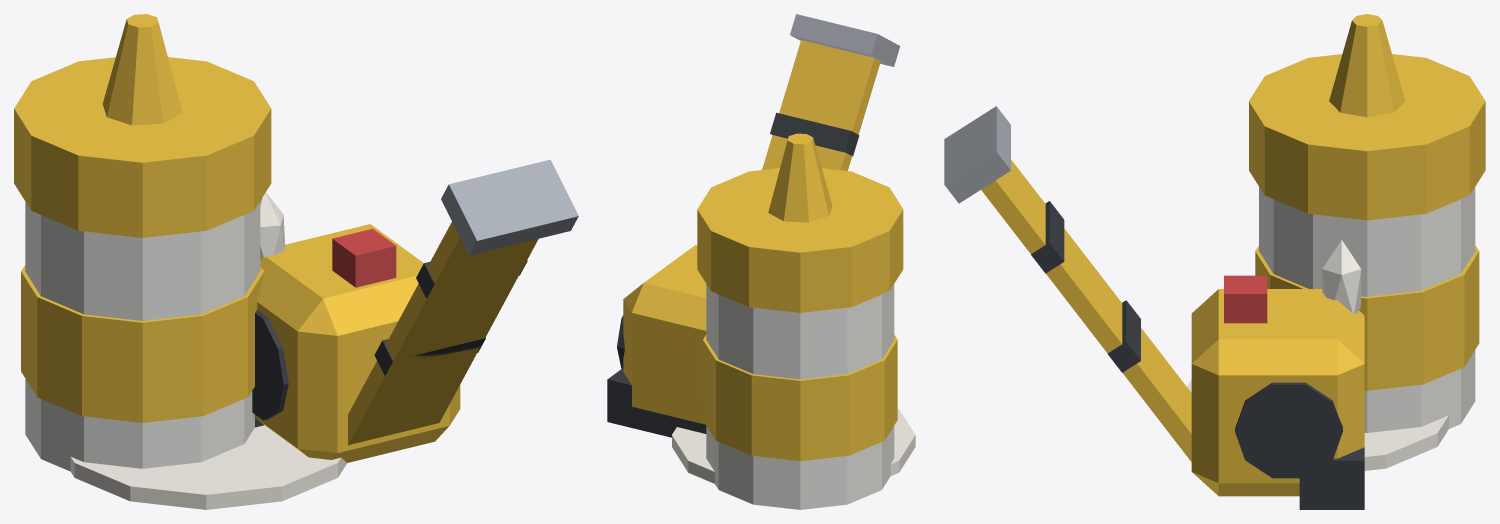
Rendered from thumbtacks_m2_2.glb.
3 renders of one model, left to right at view 1: azimuth 30°, elevation 25°; view 2: azimuth 150°, elevation 25°; view 3: azimuth 270°, elevation 25°, orthographic. The views are drawn at different scales.
Parts seen in each view (by area): view 1: thumbtacks_m2_2_mesh; view 2: thumbtacks_m2_2_mesh; view 3: thumbtacks_m2_2_mesh.
Boxes of the visible parts, bbox=[...] form: thumbtacks_m2_2_mesh: bbox=[14, 14, 578, 509]; thumbtacks_m2_2_mesh: bbox=[607, 14, 915, 509]; thumbtacks_m2_2_mesh: bbox=[944, 14, 1485, 509].
Bounding box in the file's own units: 0.2953 × 0.33 × 0.4252.
